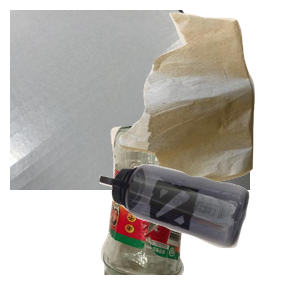cardboard: (10, 10, 250, 190)
glass: (98, 120, 286, 300)
plastic: (97, 162, 300, 300)
trash: (114, 10, 300, 189)
